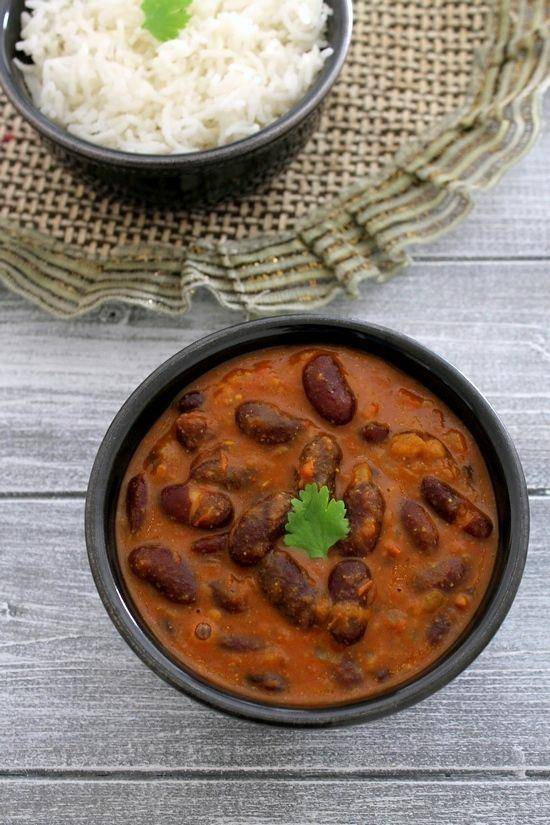RajmaCurry: (105, 320, 518, 712)
WhiteRice: (19, 0, 332, 152)
